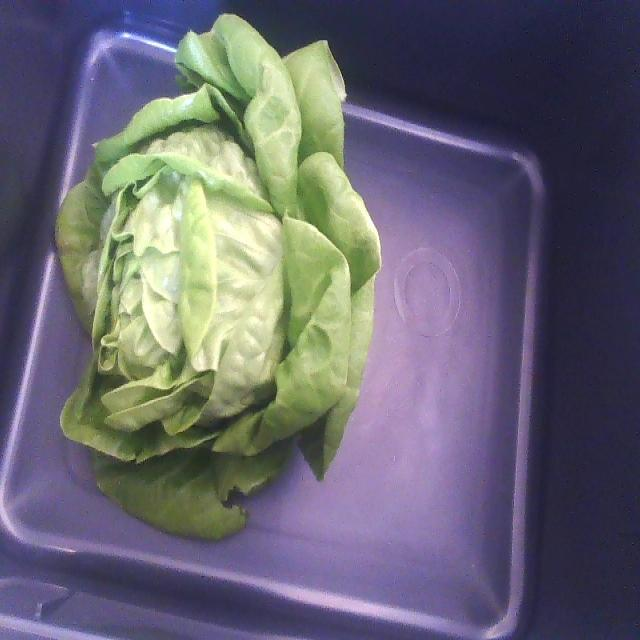lettuce: (56, 15, 381, 539)
